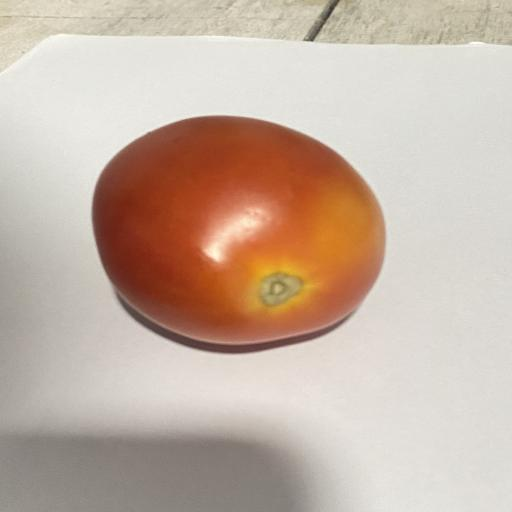ripe: (92, 116, 385, 345)
